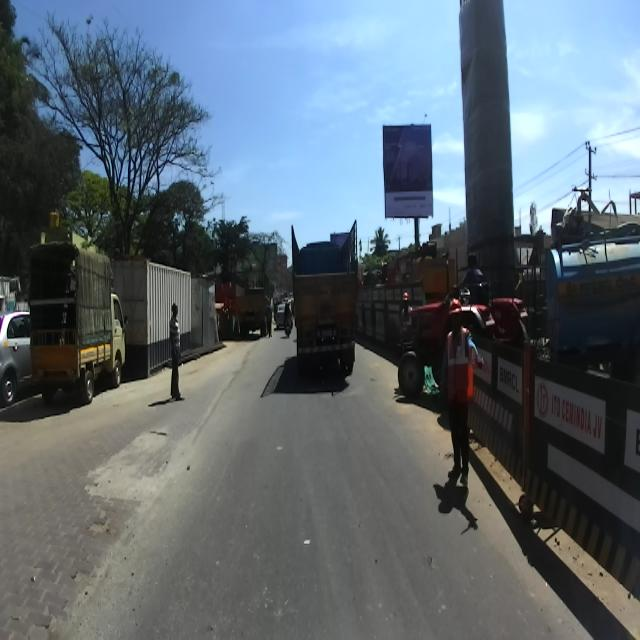person ahead at: (437, 288, 480, 504), (164, 298, 191, 404)
truck ahead at: (24, 233, 128, 412), (280, 212, 365, 382)
